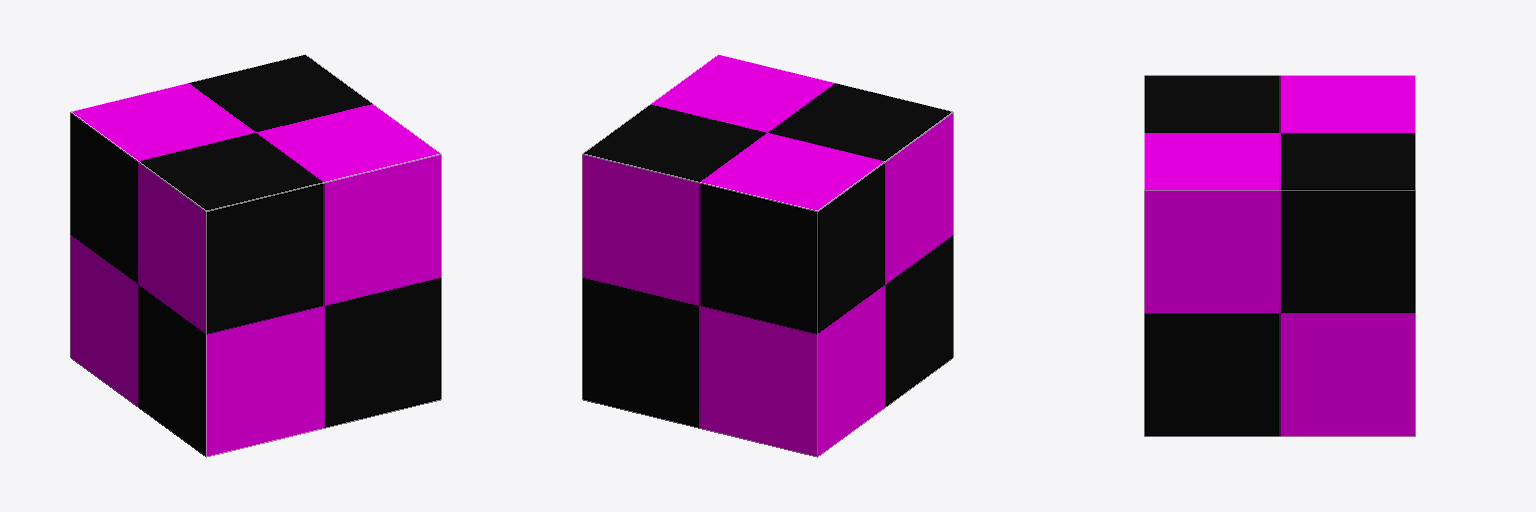
The picture shows the model from 3 angles: view 1: azimuth 30°, elevation 25°; view 2: azimuth 150°, elevation 25°; view 3: azimuth 270°, elevation 25°; orthographic projection.
Visible parts, largest first — view 1: cube; view 2: cube; view 3: cube.
Boxes of the visible parts, box(x1,y1,x2,y2) form: cube: box(70, 54, 441, 457); cube: box(582, 54, 953, 457); cube: box(1144, 75, 1415, 436).
Bounding box in the file's own units: 2 × 2 × 2.
Materials: 1 (1 with a texture image).